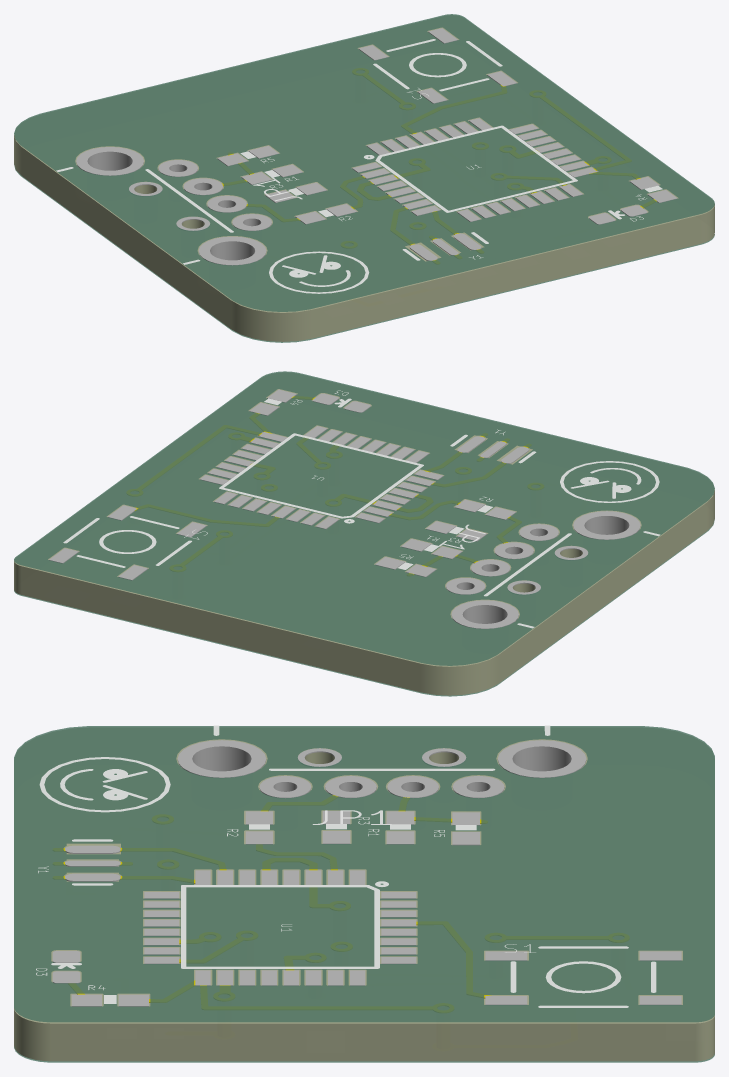
File: pepitabadgeshieldcompatible-bsides-badge-pepita.glb
The picture shows the model from 3 angles, top to bottom: view 1: azimuth 30°, elevation 25°; view 2: azimuth 150°, elevation 25°; view 3: azimuth 270°, elevation 25°; orthographic projection. The views are drawn at different scales.
Parts seen in each view (by area): view 1: =>[0:1:1:9], =>[0:1:1:7], =>[0:1:1:2], =>[0:1:1:5]; view 2: =>[0:1:1:9], =>[0:1:1:7], =>[0:1:1:2], =>[0:1:1:5]; view 3: =>[0:1:1:9], =>[0:1:1:7], =>[0:1:1:2], =>[0:1:1:5].
Boxes of the visible parts, x1,y1,x2,y2 form: =>[0:1:1:9]: (14,15,714,341); =>[0:1:1:7]: (14,14,714,342); =>[0:1:1:2]: (76,28,677,265); =>[0:1:1:5]: (56,39,662,293); =>[0:1:1:9]: (14,373,714,695); =>[0:1:1:7]: (14,371,714,696); =>[0:1:1:2]: (49,389,640,628); =>[0:1:1:5]: (63,390,660,628); =>[0:1:1:9]: (14,728,714,1061); =>[0:1:1:7]: (14,726,714,1062); =>[0:1:1:2]: (52,740,681,1012); =>[0:1:1:5]: (36,725,656,1007).
Bounding box in the file's own units: 0.0254 × 0.00166 × 0.0254.
Materials: 4 (4 with a texture image).
